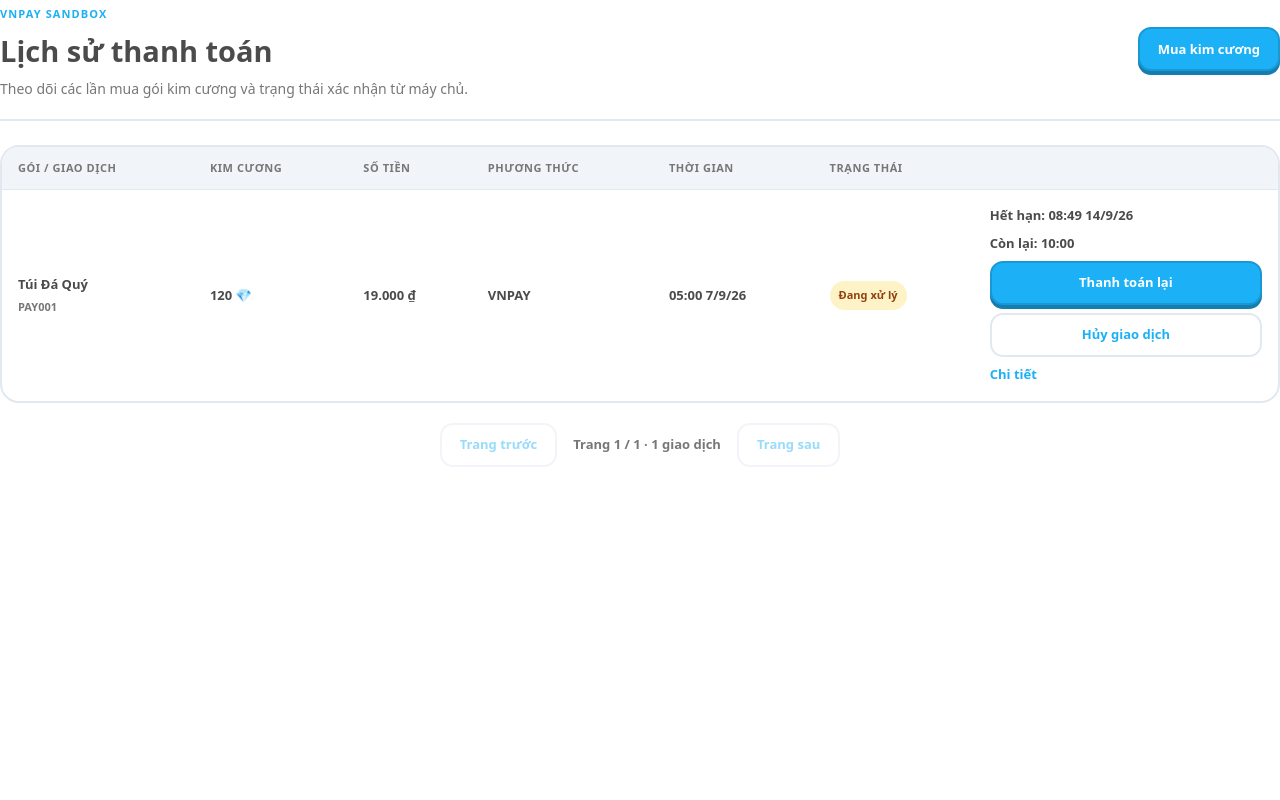
it: PaymentHistoryPage › cancel error closes modal, refetches and enables actions
The image size is (1280, 800).
Click the button with aria-label "Hủy giao dịch PAY001": [1126, 335] box [990,313,1262,357]
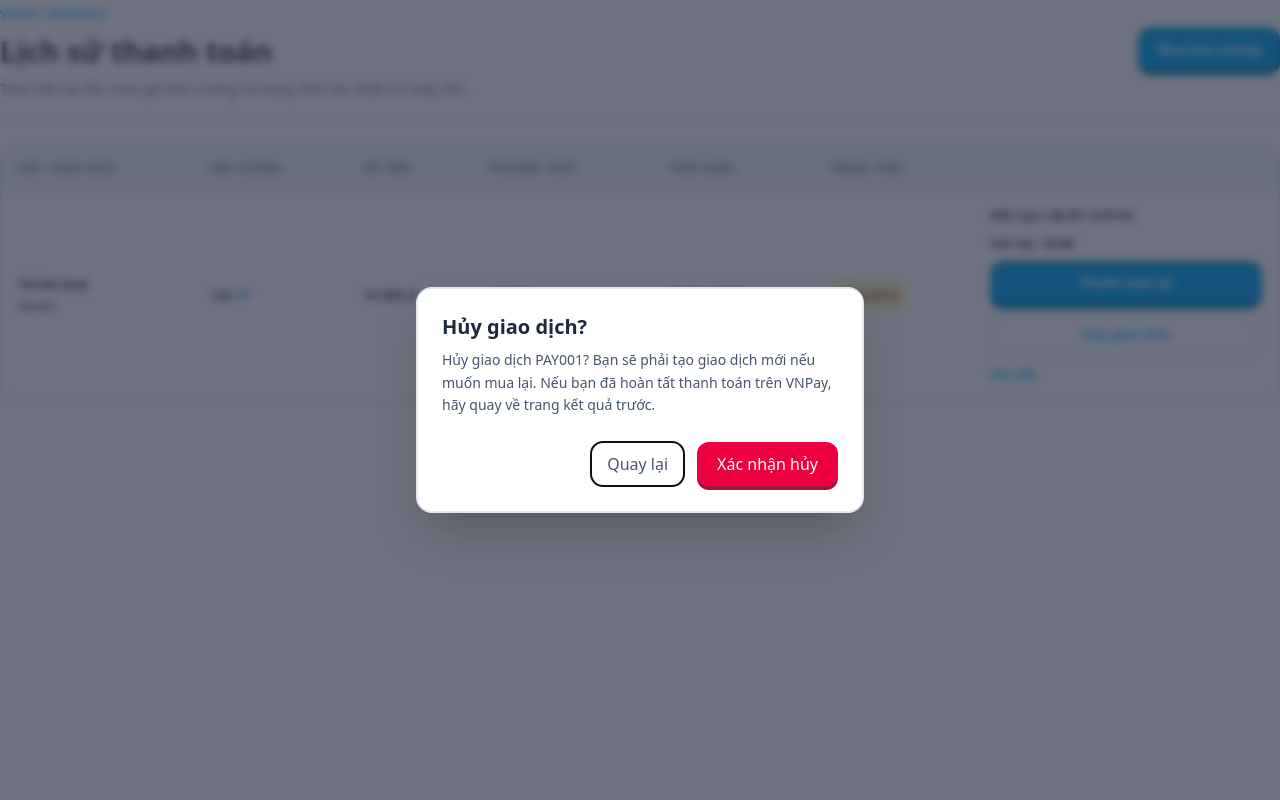
Press Escape in the dialog
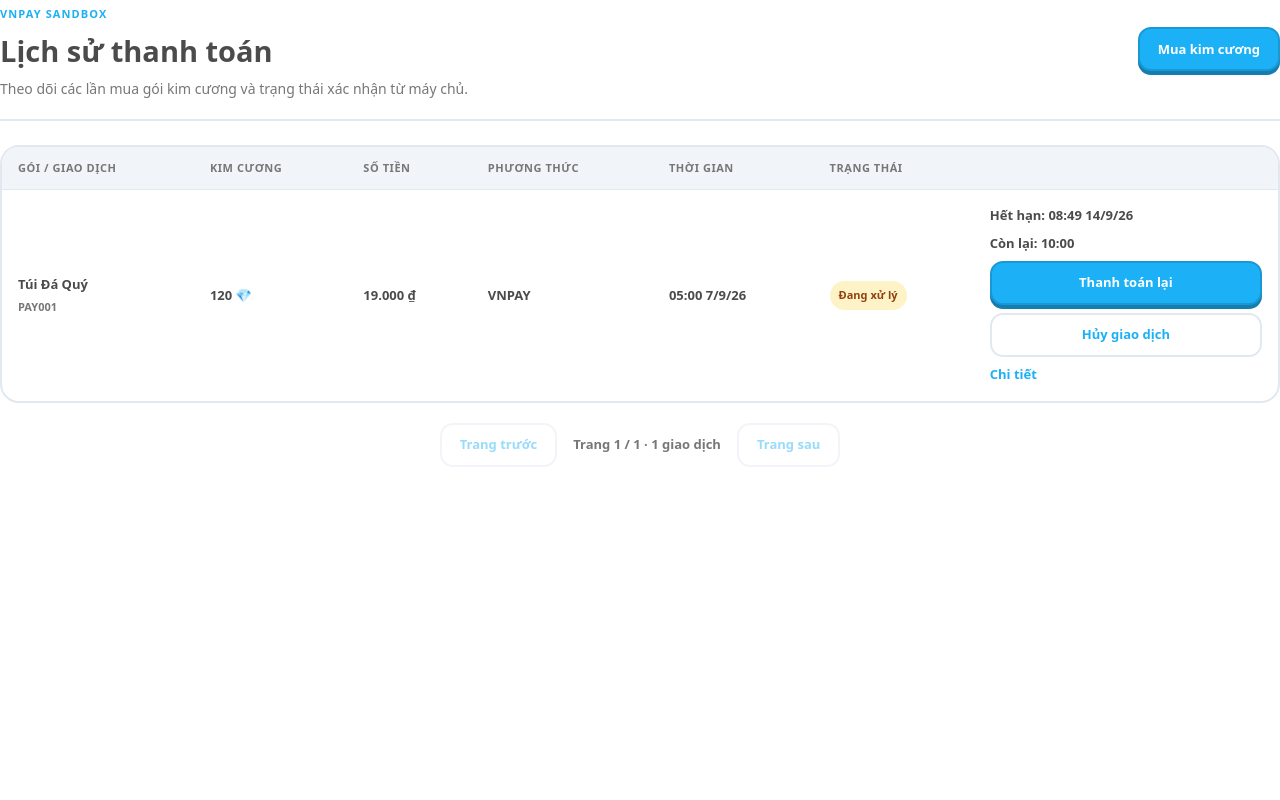
Expected: the dialog is gone
Click the button with aria-label "Hủy giao dịch PAY001": [1126, 335] box [990,313,1262,357]
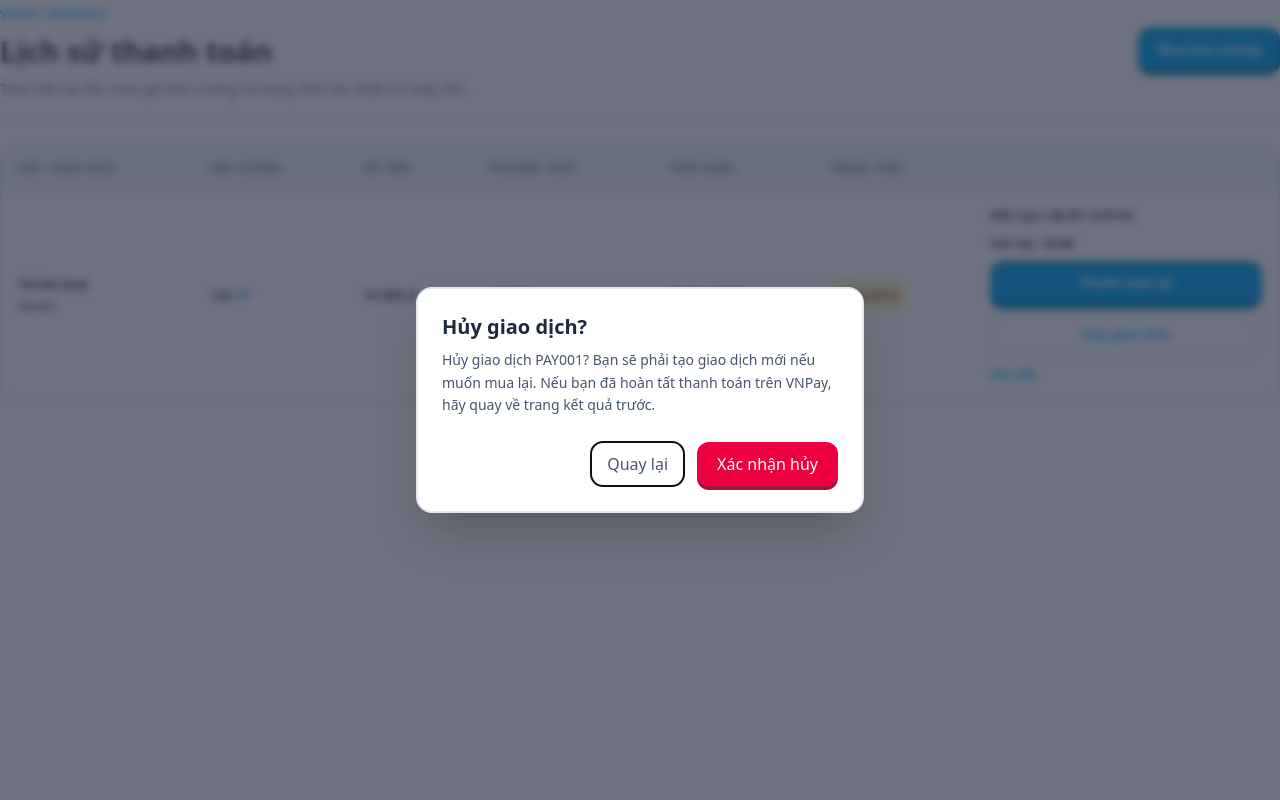
Click the button "Xác nhận hủy": [768, 464] box [697,442,838,486]
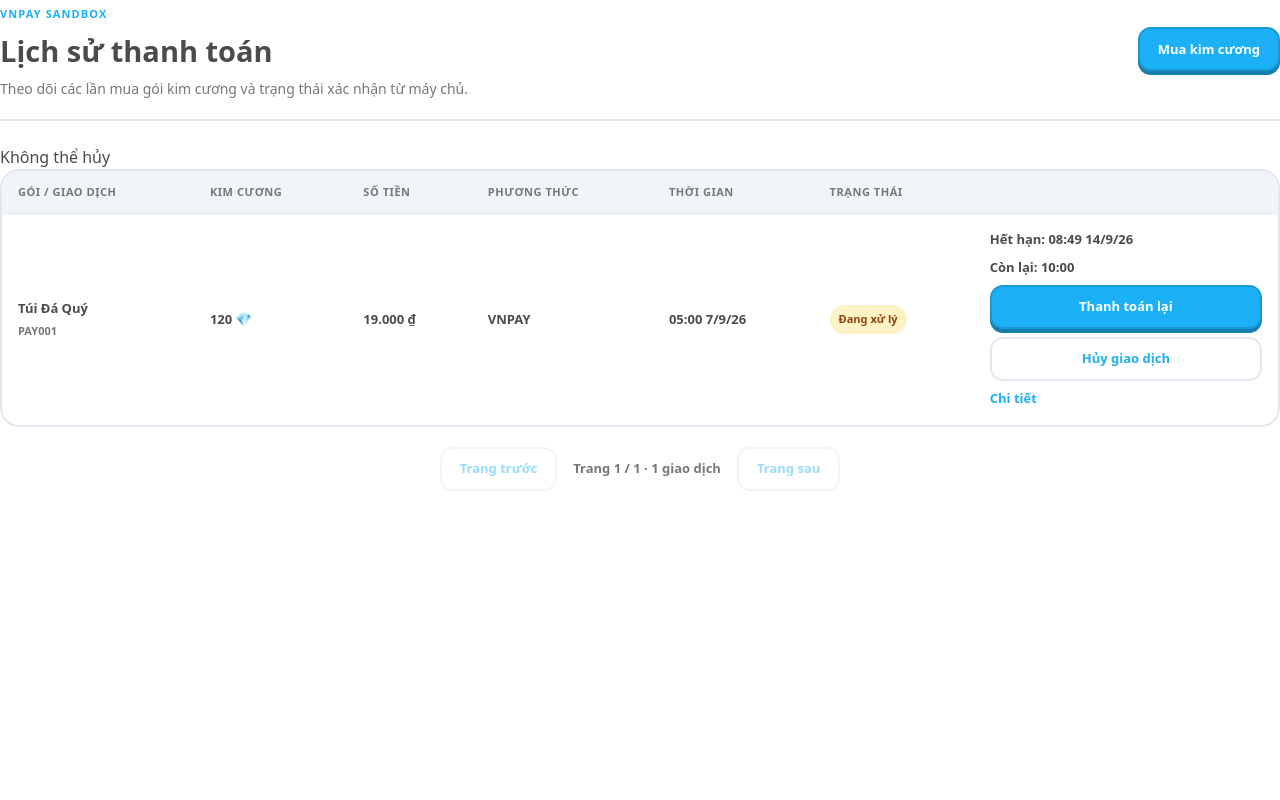
Expected: the button with aria-label "Hủy giao dịch PAY001" is enabled, [990,337,1262,381]
Expected: the message reads "Không thể hủy", [0,146,110,168]
